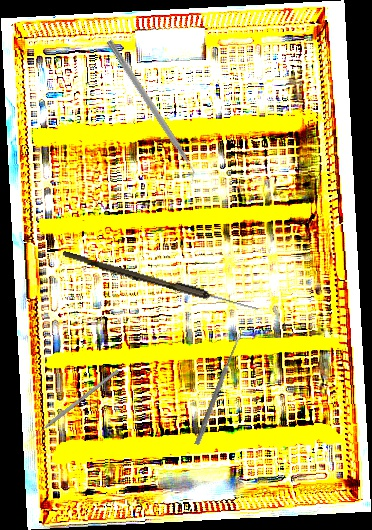Chopper: (99, 39, 202, 186)
Pusher: (25, 369, 120, 443)
Surgical Spoon: (61, 250, 260, 314), (194, 332, 243, 446)
